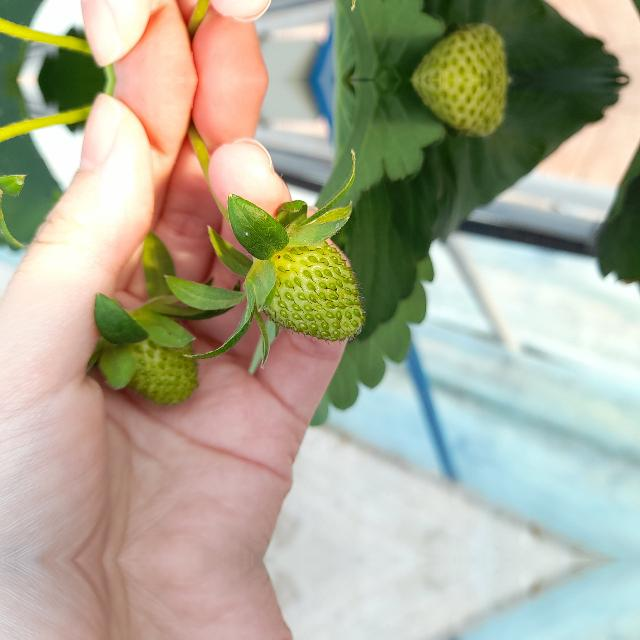Health_25: (258, 236, 366, 340), (90, 308, 198, 406)
